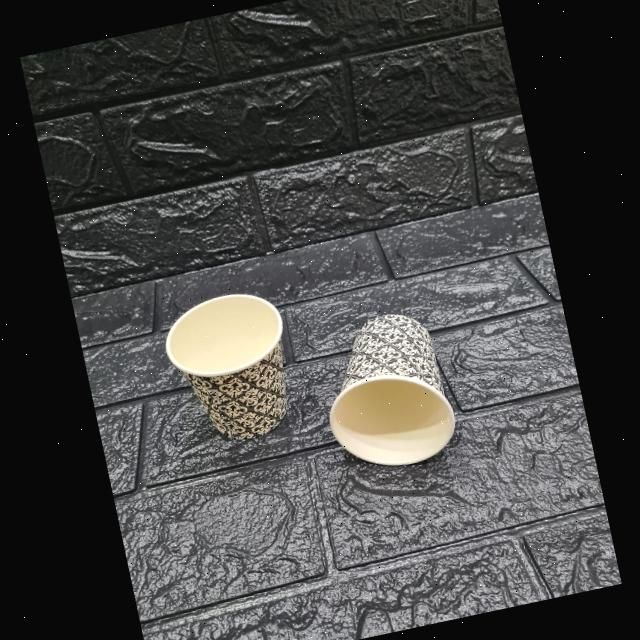trash: (312, 306, 460, 474), (160, 286, 306, 453)
